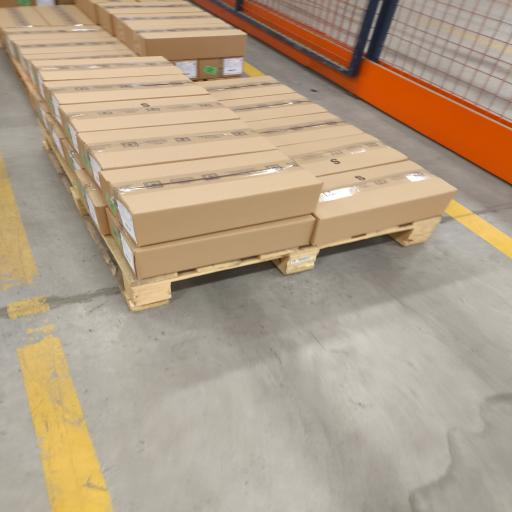pallet: (39, 121, 441, 311), (40, 125, 441, 311)
